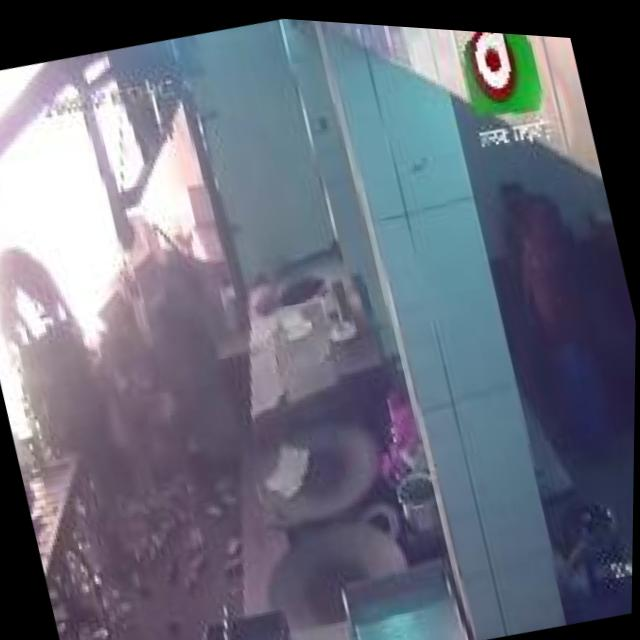fire: (0, 51, 175, 451), (89, 122, 211, 299)
